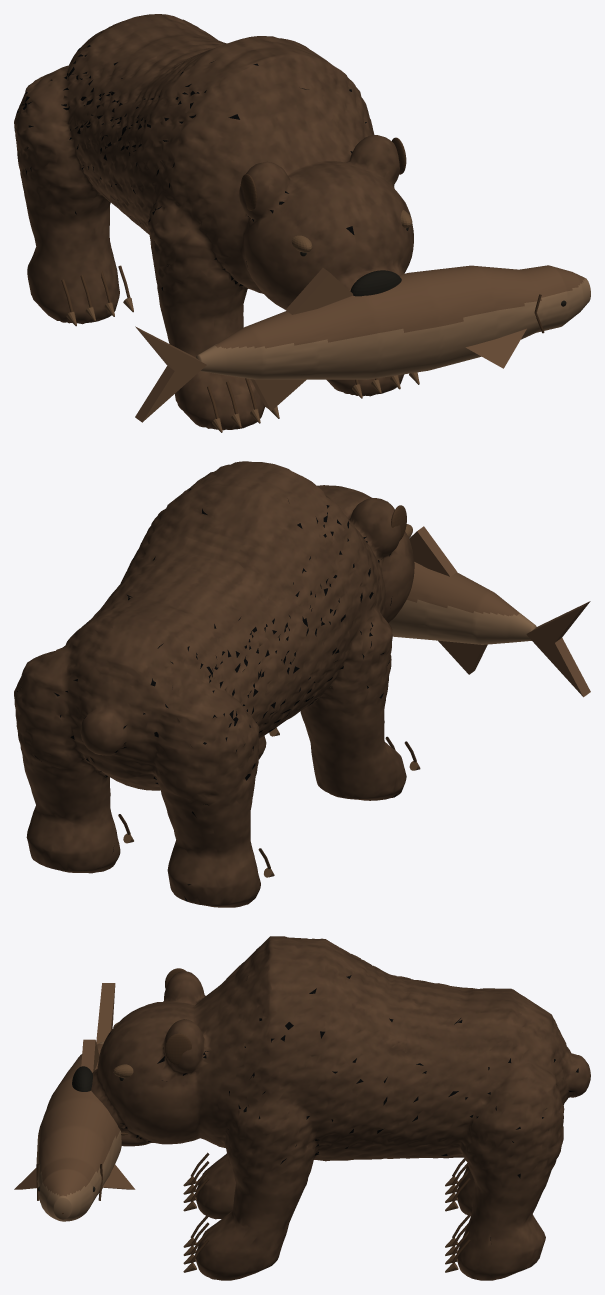
Rendered from hokkaido_bear_high_low_baked.glb.
3 views of the same model, one above another, from view 1: azimuth 30°, elevation 25°; view 2: azimuth 150°, elevation 25°; view 3: azimuth 270°, elevation 25° (orthographic). The views are drawn at different scales.
Parts seen in each view (by area): view 1: Kuma_Baked_UV_Lowpoly, Salmon_Tapered_Body, Salmon_Forked_Tail, Salmon_DorsalFin, Salmon_PectoralFin-1, Salmon_AnalFin, Bear_Black_Carved_Nose; view 2: Kuma_Baked_UV_Lowpoly, Salmon_Tapered_Body, Salmon_Forked_Tail, Salmon_DorsalFin, Salmon_AnalFin; view 3: Kuma_Baked_UV_Lowpoly, Salmon_Tapered_Body, Salmon_Forked_Tail, EarWell_-1, Salmon_DorsalFin, Bear_Black_Carved_Nose.
Boxes of the visible parts, box(x1,y1,x2,y2) form: Kuma_Baked_UV_Lowpoly: box(14, 14, 413, 430); Salmon_Tapered_Body: box(196, 265, 590, 379); Salmon_Forked_Tail: box(135, 326, 206, 422); Salmon_DorsalFin: box(286, 268, 352, 314); Salmon_PectoralFin-1: box(465, 328, 526, 368); Salmon_AnalFin: box(251, 379, 306, 410); Bear_Black_Carved_Nose: box(350, 270, 401, 296); Kuma_Baked_UV_Lowpoly: box(14, 461, 414, 907); Salmon_Tapered_Body: box(388, 562, 536, 644); Salmon_Forked_Tail: box(526, 601, 590, 697); Salmon_DorsalFin: box(409, 526, 456, 576); Salmon_AnalFin: box(438, 640, 487, 674); Kuma_Baked_UV_Lowpoly: box(91, 936, 590, 1280); Salmon_Tapered_Body: box(36, 1042, 121, 1221); Salmon_Forked_Tail: box(96, 983, 115, 1044); EarWell_-1: box(165, 1033, 191, 1065); Salmon_DorsalFin: box(81, 1039, 99, 1072); Bear_Black_Carved_Nose: box(72, 1066, 92, 1091).
Size of the model in its own units: 2.62 by 1.93 by 3.46.
Materials: 7 (1 with a texture image).
